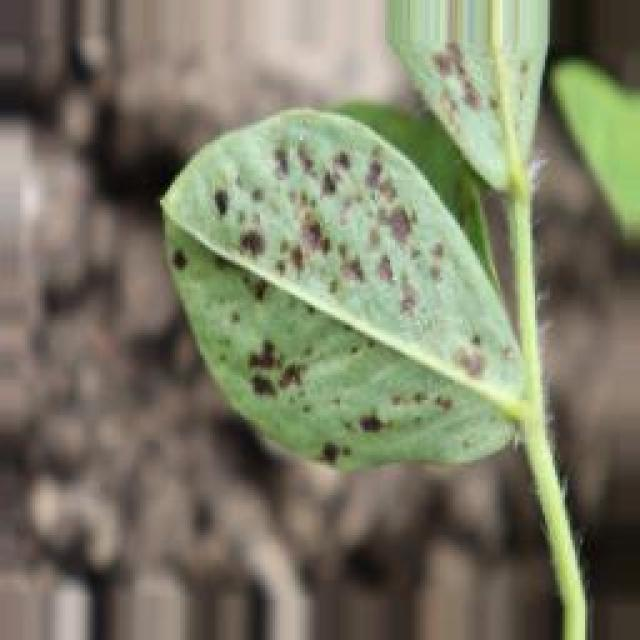Whitefly: (153, 0, 565, 535)
